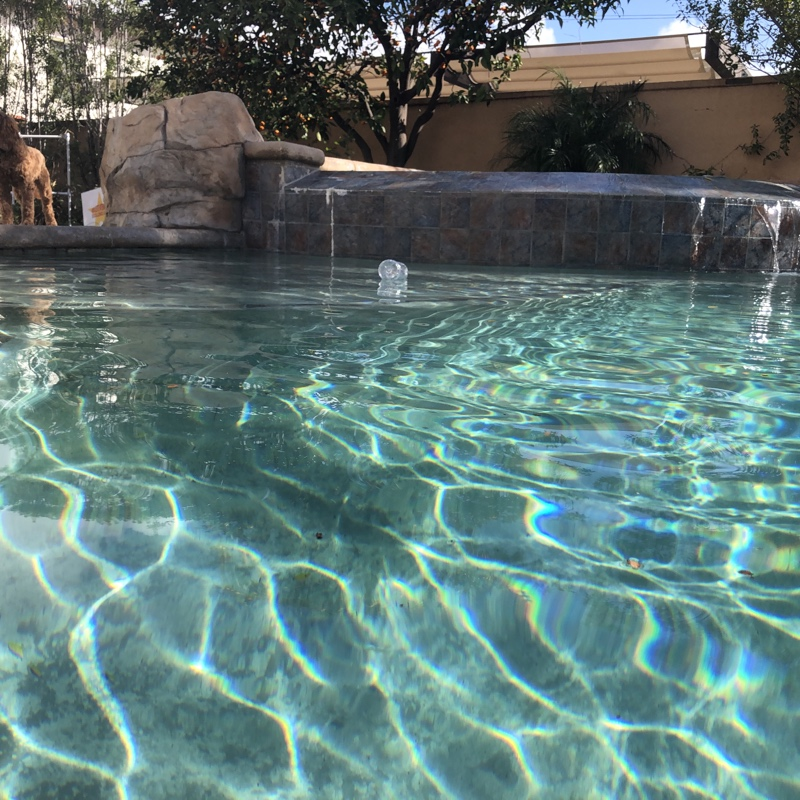Plastic Bottle: (374, 259, 410, 287)
